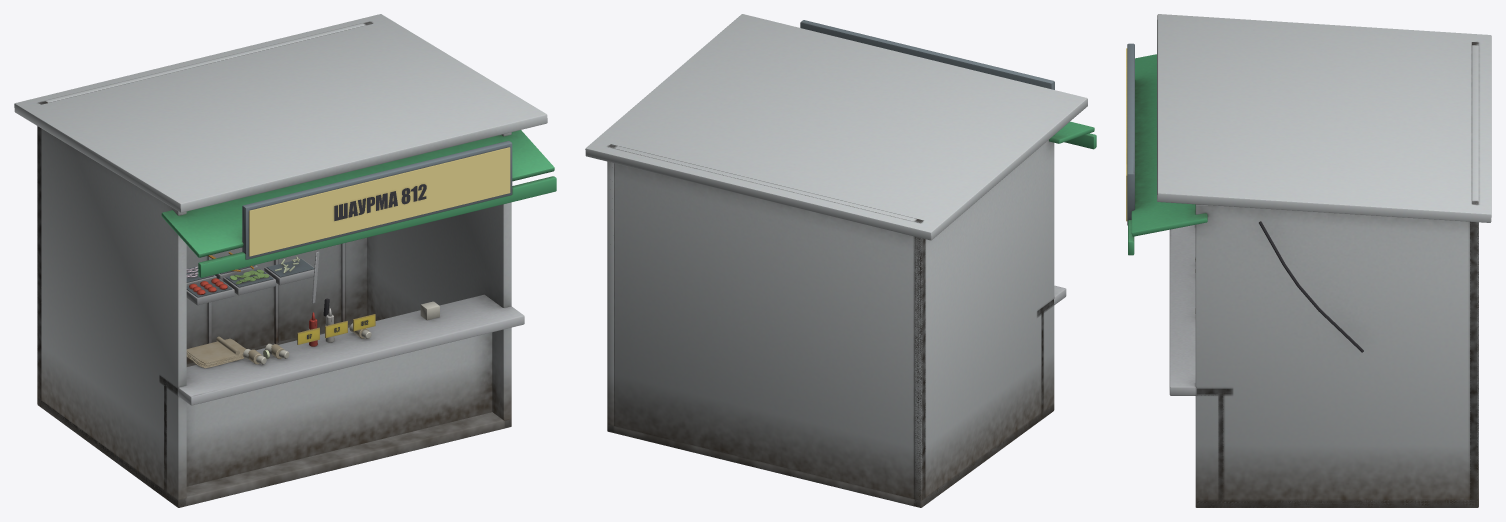
The model's file is g67_pz_kiosk_shawarma.glb.
3 renders of one model, left to right at view 1: azimuth 30°, elevation 25°; view 2: azimuth 150°, elevation 25°; view 3: azimuth 270°, elevation 25°, orthographic. The views are drawn at different scales.
Parts seen in each view (by area): view 1: g67_pz_kiosk_shawarma; view 2: g67_pz_kiosk_shawarma; view 3: g67_pz_kiosk_shawarma.
Boxes of the visible parts, box(x1,y1,x2,y2) form: g67_pz_kiosk_shawarma: box(14, 14, 556, 507); g67_pz_kiosk_shawarma: box(585, 14, 1096, 507); g67_pz_kiosk_shawarma: box(1126, 14, 1491, 507).
Size of the model in its own units: 3.36 by 2.77 by 2.84.
1 material, 1 textured.
